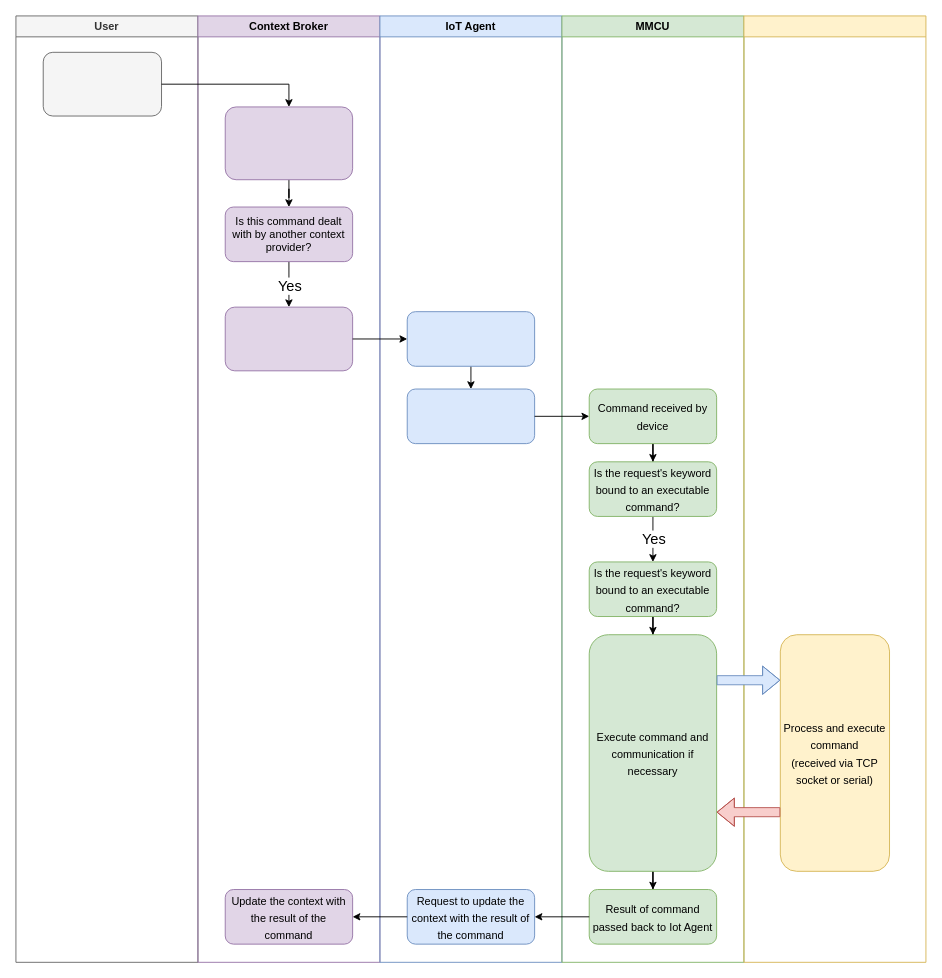
This 942x978 diagram has some shape labels left out. Here are the shapes that lost their labels. From the top down, the box of each, then its label:
(42, 51, 162, 116): Sending a command
(224, 106, 353, 180): Retrieve current context for the MMCU entity
(224, 306, 353, 371): Request delegated to the IoT Agent
(406, 311, 535, 366): Retrieve the device from the IoT database
(406, 388, 535, 444): Request sent to device
(743, 15, 926, 962): Embedded device
